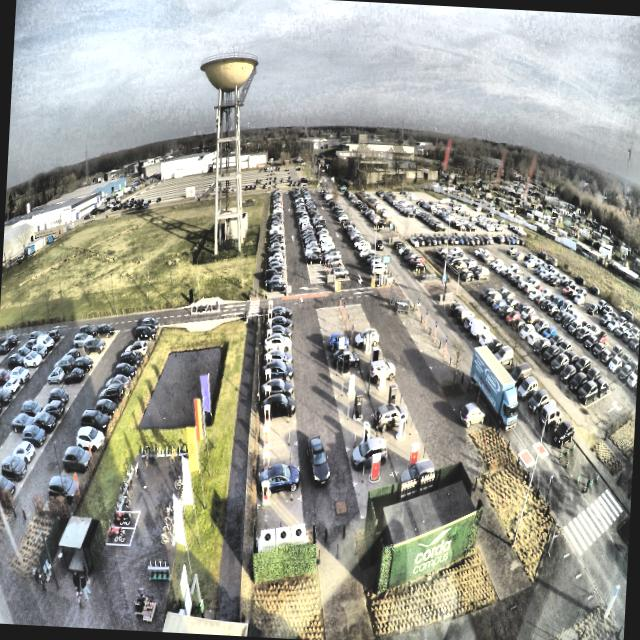cabinet: (260, 526, 306, 547)
car: (306, 432, 332, 489), (259, 461, 300, 496), (261, 392, 297, 422), (262, 358, 295, 381), (261, 379, 294, 399), (263, 348, 293, 367), (264, 334, 292, 351), (266, 315, 294, 332), (267, 324, 293, 340), (271, 305, 293, 320)
parking: (257, 468, 301, 504), (257, 500, 303, 534), (259, 442, 299, 473), (259, 422, 297, 448), (259, 403, 295, 426), (260, 383, 294, 404), (262, 367, 293, 385), (263, 353, 292, 369), (263, 341, 291, 355), (264, 332, 290, 343), (264, 322, 290, 333), (265, 311, 289, 322)
supercharger: (262, 481, 269, 504), (263, 425, 270, 448), (263, 452, 270, 474), (264, 404, 270, 425), (265, 386, 271, 401), (266, 368, 271, 385), (266, 353, 271, 368), (267, 341, 272, 355), (267, 330, 272, 341), (268, 309, 272, 320), (268, 319, 272, 329), (268, 301, 272, 310)
